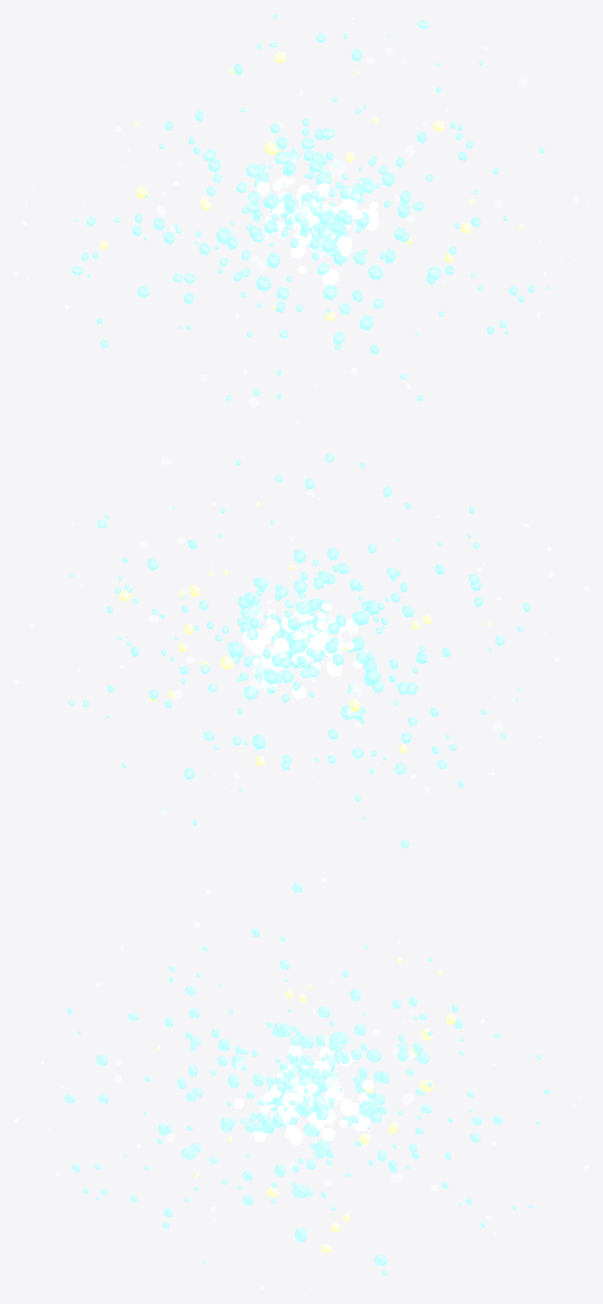
Rendered from particle_only_sound_effect_optimized.glb.
3 views of the same model, one above another, from view 1: azimuth 30°, elevation 25°; view 2: azimuth 150°, elevation 25°; view 3: azimuth 270°, elevation 25° (orthographic). The views are drawn at different scales.
Parts seen in each view (by area): view 1: VIS_SoundParticleCloud_Main_Optimized; view 2: VIS_SoundParticleCloud_Main_Optimized; view 3: VIS_SoundParticleCloud_Main_Optimized.
Boxes of the visible parts, left/top/right/bottom form: VIS_SoundParticleCloud_Main_Optimized: left=14, top=14, right=588, bottom=424; VIS_SoundParticleCloud_Main_Optimized: left=14, top=453, right=588, bottom=848; VIS_SoundParticleCloud_Main_Optimized: left=14, top=877, right=588, bottom=1289.
Size of the model in its own units: 1.74 by 1.14 by 1.8.
